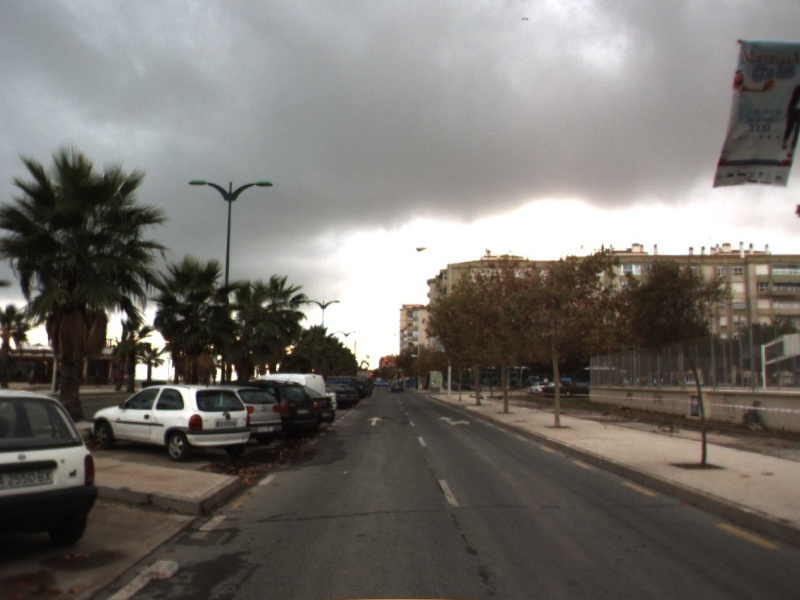STRAIGHT: (366, 415, 386, 427)
STRAIGHT_RIGHT: (436, 414, 473, 427)
